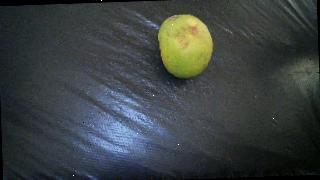DESECHO: (157, 13, 214, 79)
